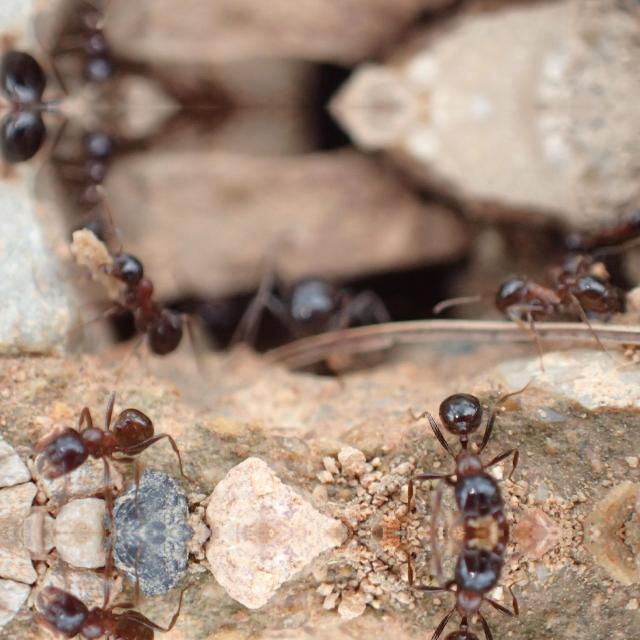Messor: (188, 249, 412, 355), (472, 239, 632, 331), (12, 402, 174, 492), (412, 389, 514, 521), (12, 572, 173, 640), (411, 544, 514, 640), (99, 252, 195, 342), (44, 109, 120, 214), (44, 0, 120, 103), (0, 106, 68, 202), (0, 10, 68, 106)
